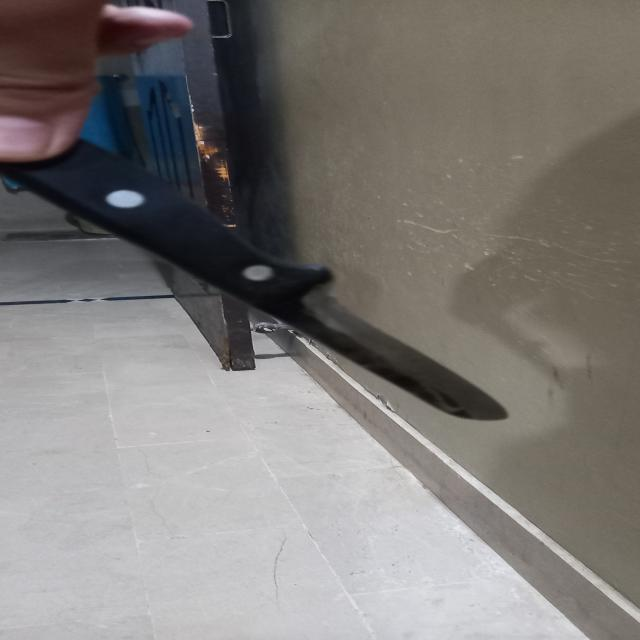weapon: (6, 127, 521, 435)
